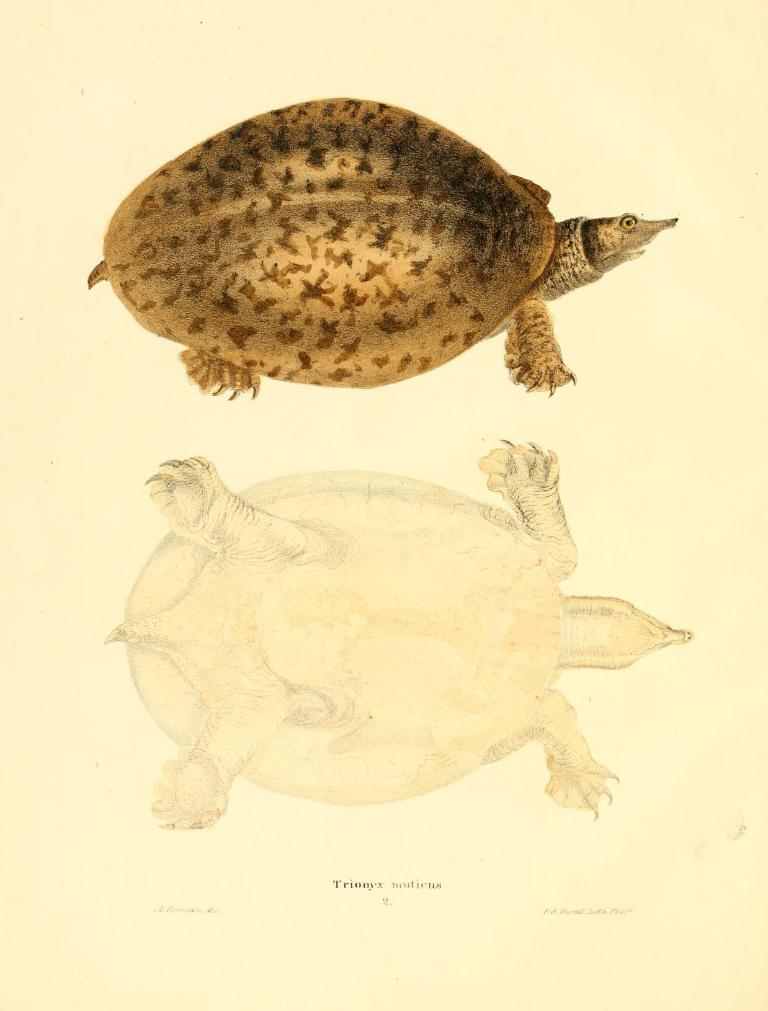Sea turtles: (96, 430, 695, 829), (79, 90, 682, 408)
